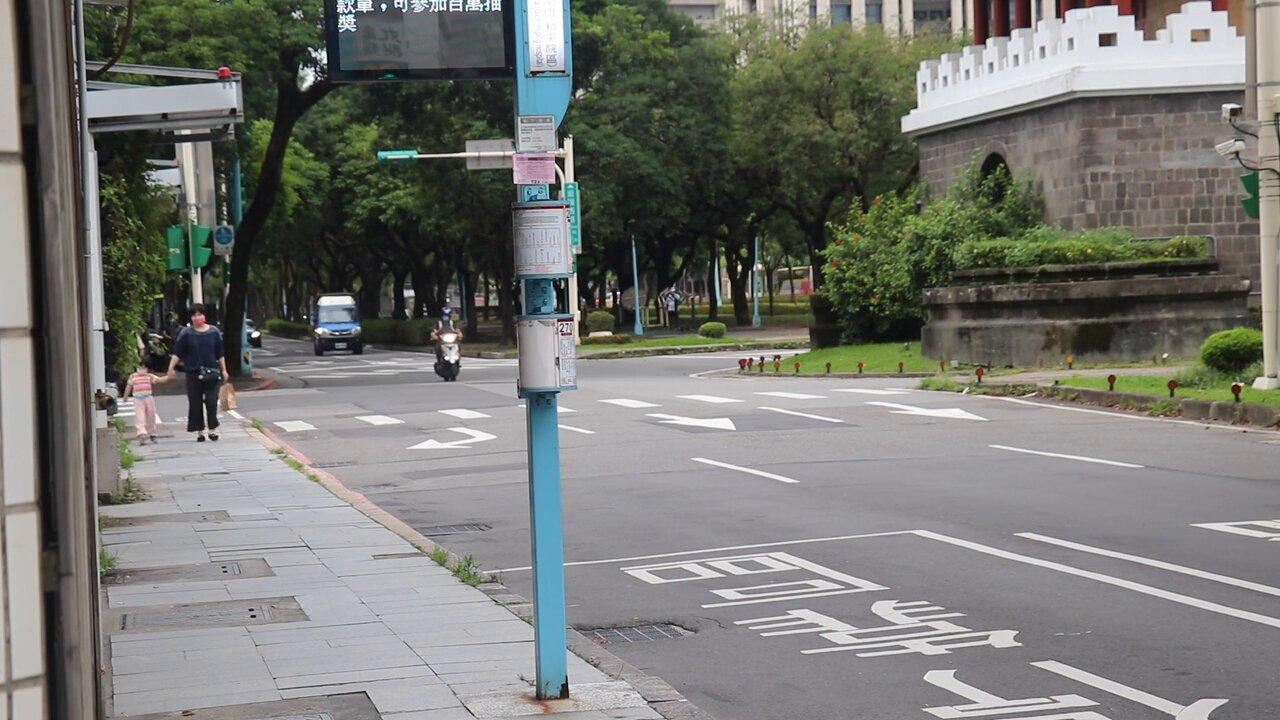driver: (428, 306, 463, 382)
helmet: (439, 307, 453, 321)
no-helmet: (188, 303, 208, 326)
